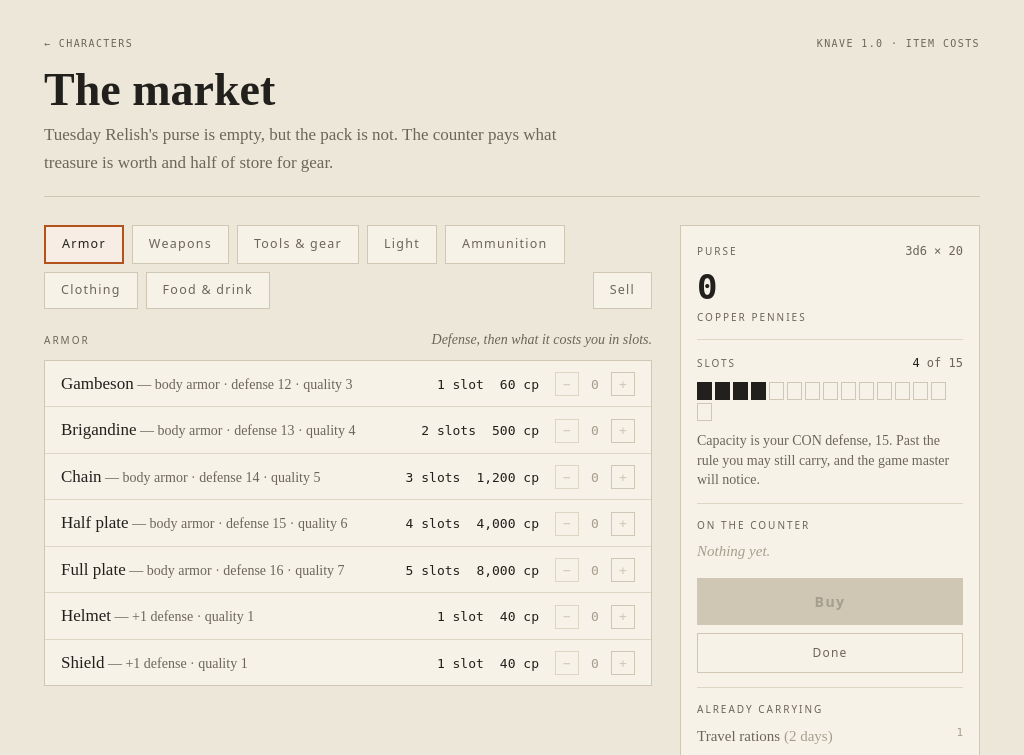
Test case: the counter, selling › lists what nobody wants rather than leaving a hole in the pack
This screenshot has width=1024, height=755.
Click the button "Sell". click: (622, 290)
box: [593,272,652,309]
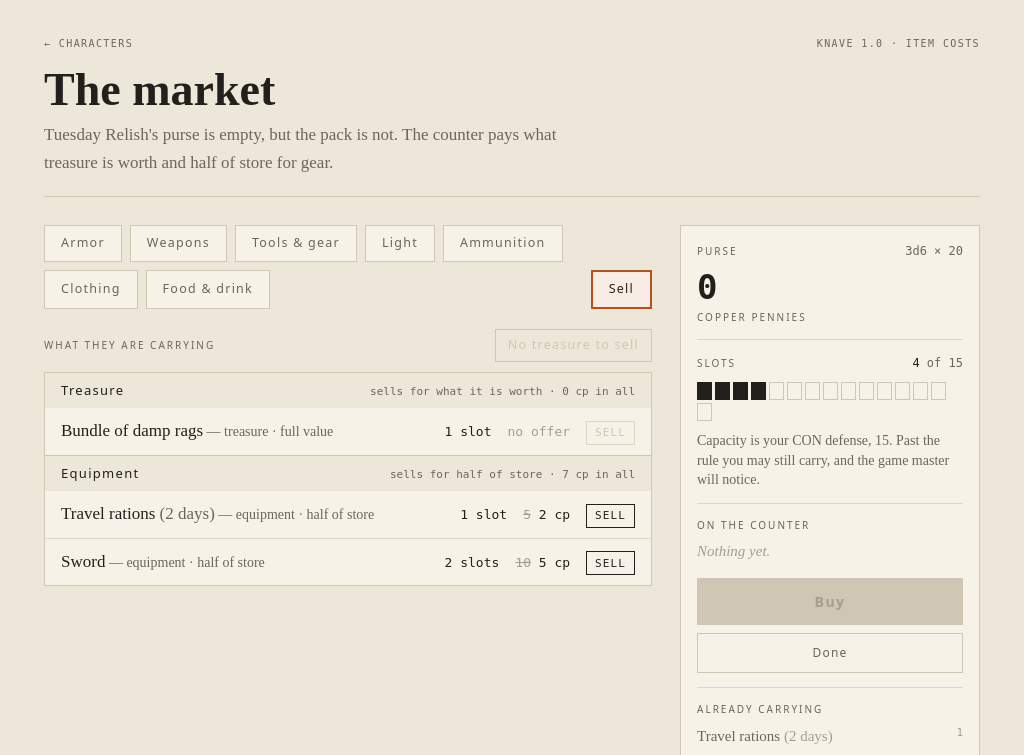
Expected: the text "Bundle of damp rags" is shown, [61,421,203,440]
Result: the text "no offer" is shown at [508,424,570,439]
Result: the button "Sell" next to "no offer" is disabled at [586,420,635,444]
